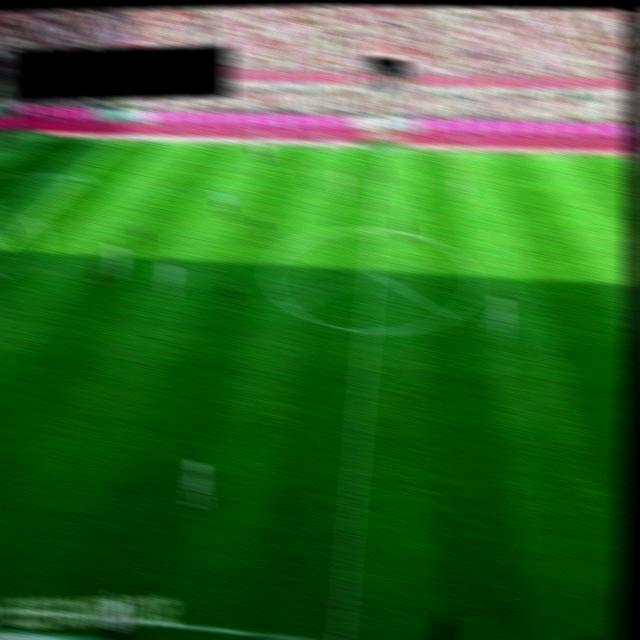bigarea_top_inner: (72, 171, 93, 184)
corner: (3, 130, 23, 142)
halfcircle_bottom: (358, 324, 377, 336)
halfcircle_top: (365, 224, 384, 236)
midline_bottom_intersection: (328, 633, 351, 640)
midline_top_intersection: (371, 144, 392, 157)
top_arc_area_intersection: (22, 215, 43, 227)
